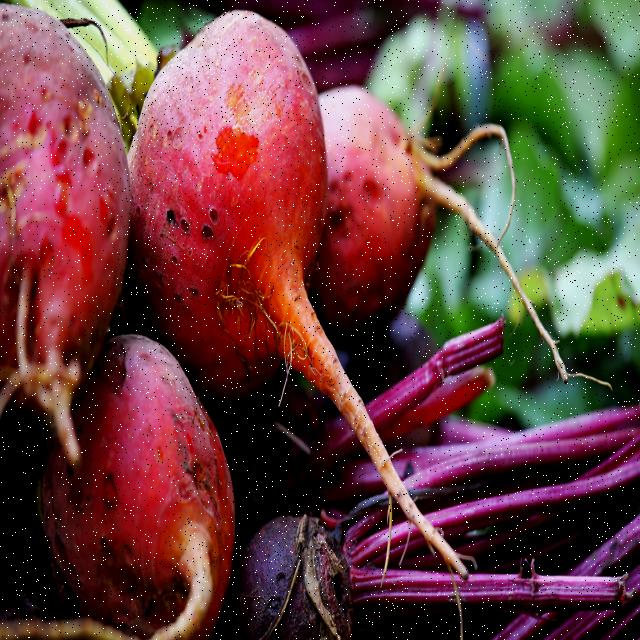Beetroot: (99, 11, 478, 583)
